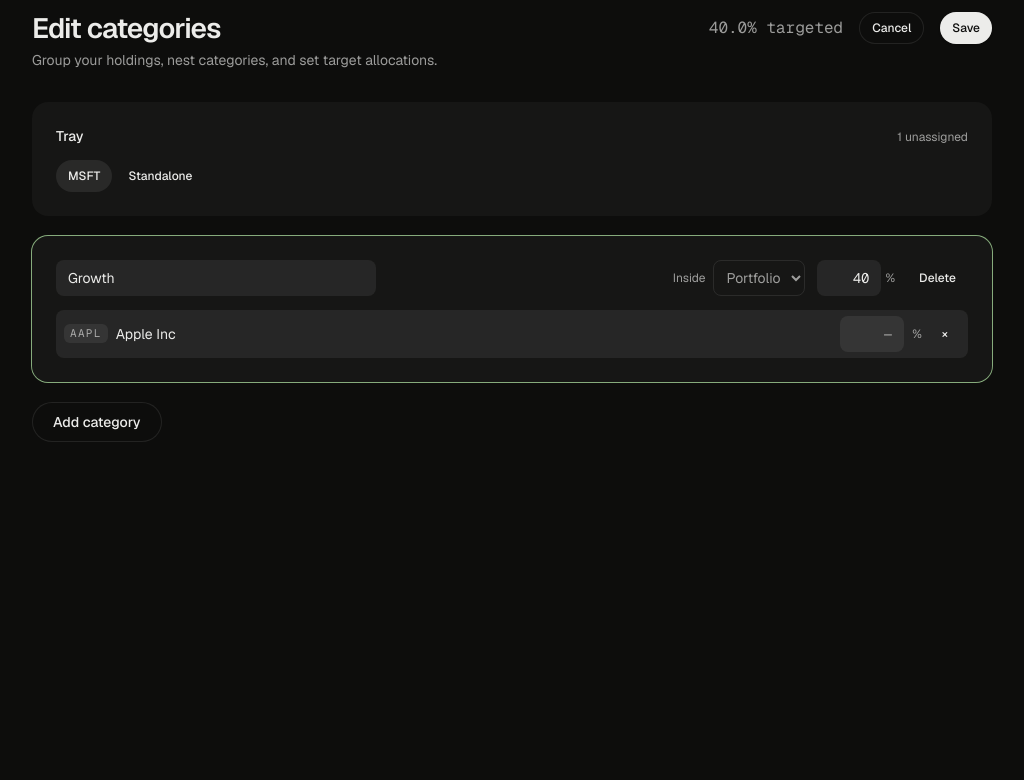
Test: CategoriesEditor › adds and deletes a category, returning its holdings to the tray
The image size is (1024, 780).
Click the button "Add category".
click(97, 422)  # box 32,402 -> 162,442
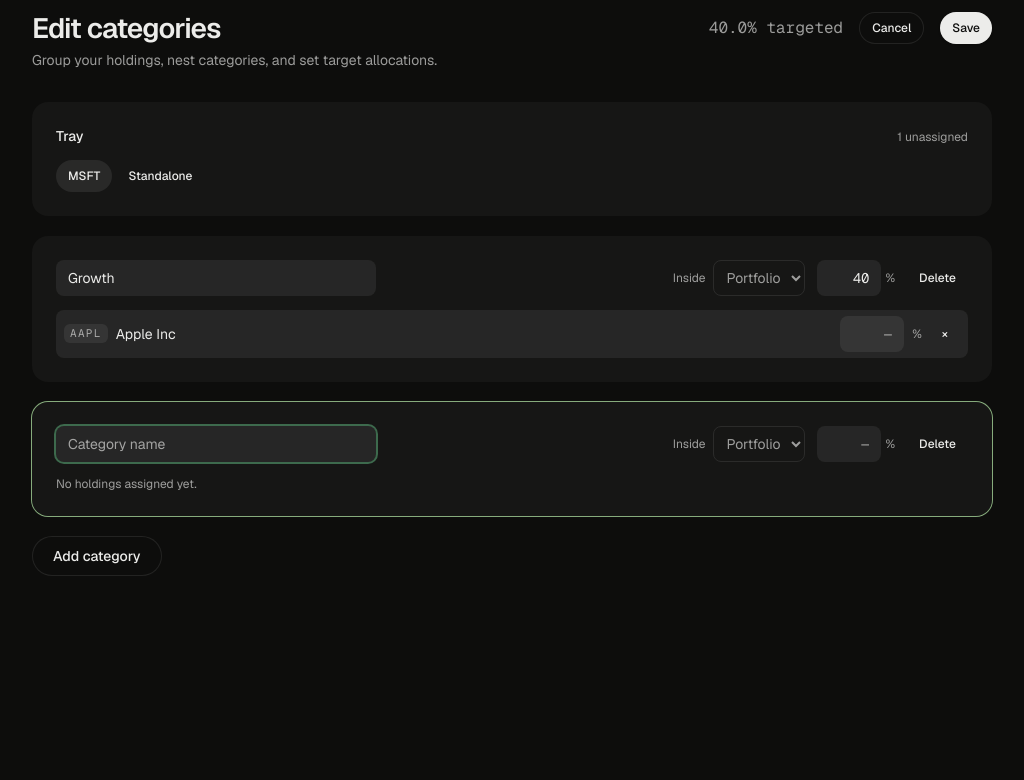
Result: the number of fields with placeholder "Category name" is 2 at 56,260 -> 376,296; 56,426 -> 376,462
Click the button with aria-label "delete growth".
click(938, 278)  # box 907,262 -> 968,294
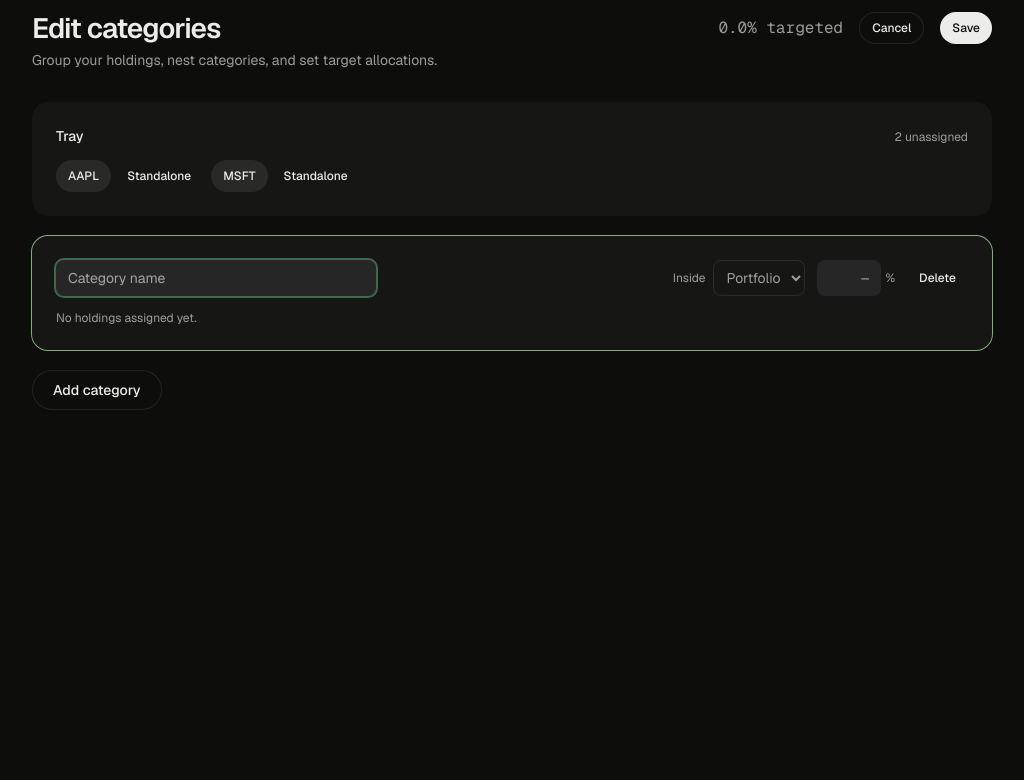
Result: the button with aria-label "assign AAPL" is shown at 56,160 -> 111,192
